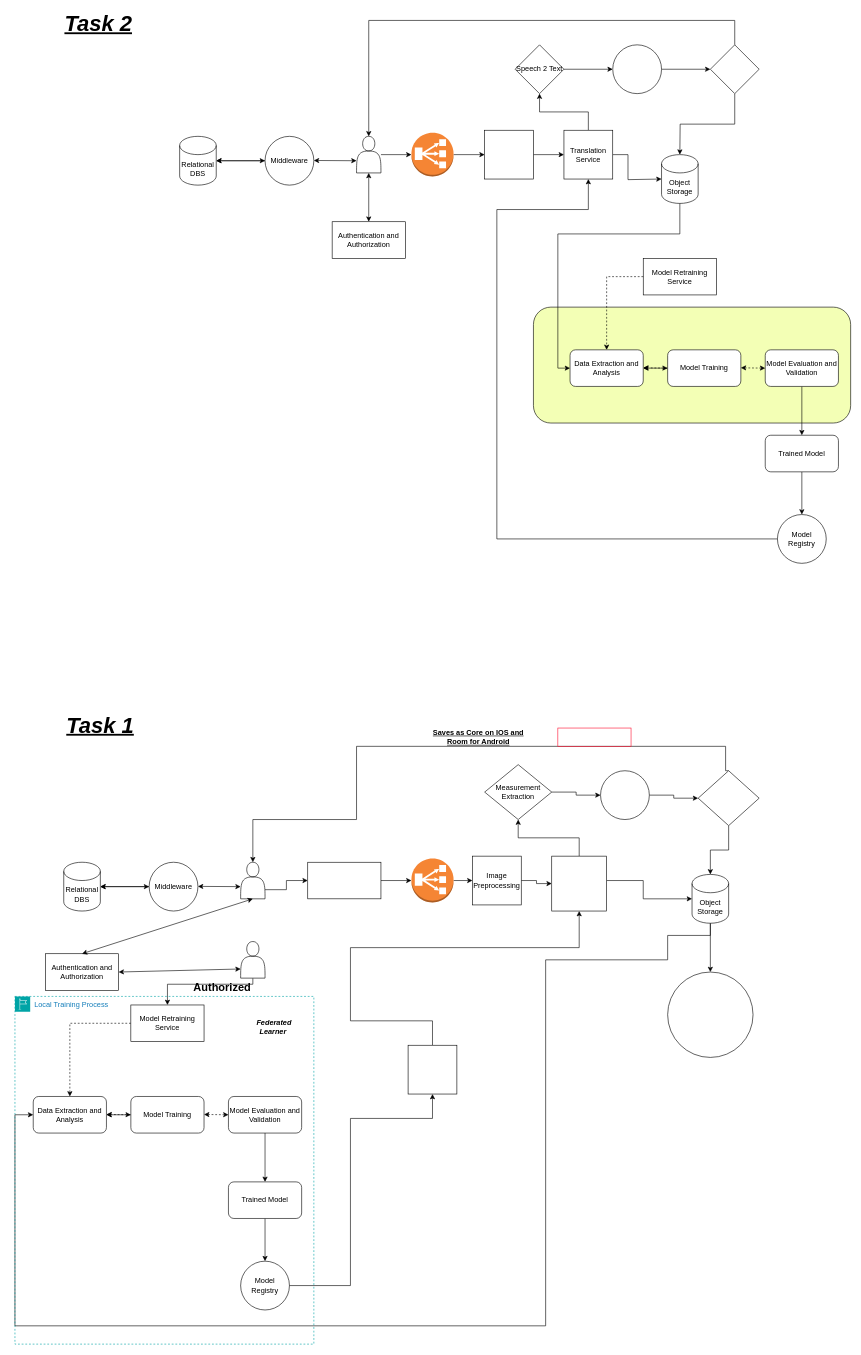
This 861x1355 diagram has some shape labels left out. Each missing label, with the centre of its shape:
"3D Mesh Export" belongs at point (728, 798).
"3D Reconstruction" belongs at point (579, 883).
"Audio Preprocessing" belongs at point (508, 154).
"Data Anaytics Service" belongs at point (710, 1014).
"Data Capturing" belongs at point (344, 880).
"Data is Private to each Client Device" belongs at point (594, 736).
"Federated Server" belongs at point (432, 1069).
"Geometry Processing Library" belongs at point (624, 795).
"Text 2 Speech" belongs at point (734, 69).
"Translation" belongs at point (637, 69).
